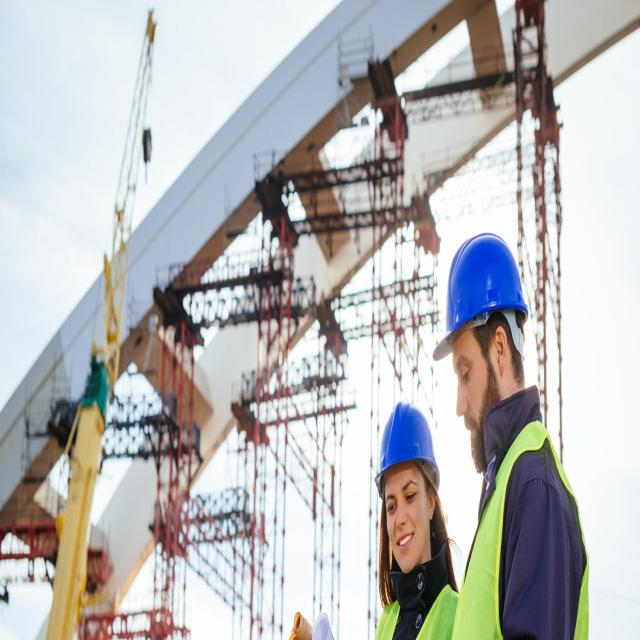helmet: (434, 229, 532, 366), (372, 402, 441, 491)
vest: (448, 410, 592, 640), (375, 576, 453, 640)
